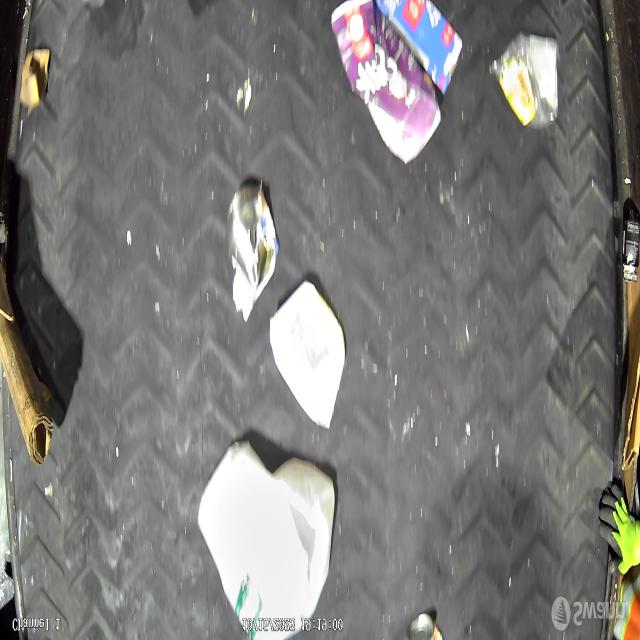can: (406, 611, 437, 640)
milk_jug: (197, 439, 313, 640), (270, 456, 336, 631)
non_white_jug: (328, 0, 446, 167)
